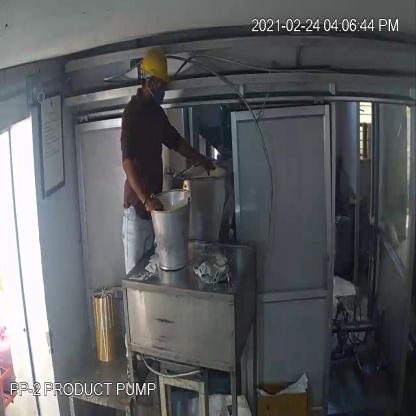helmet: (133, 37, 174, 92)
